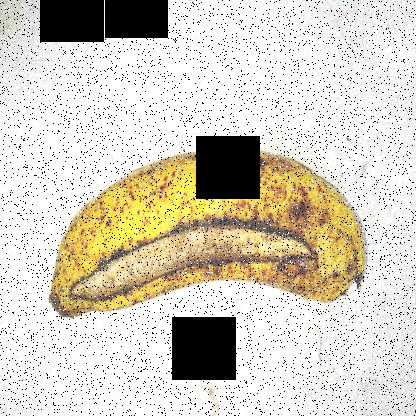rotten: (71, 205, 329, 321)
